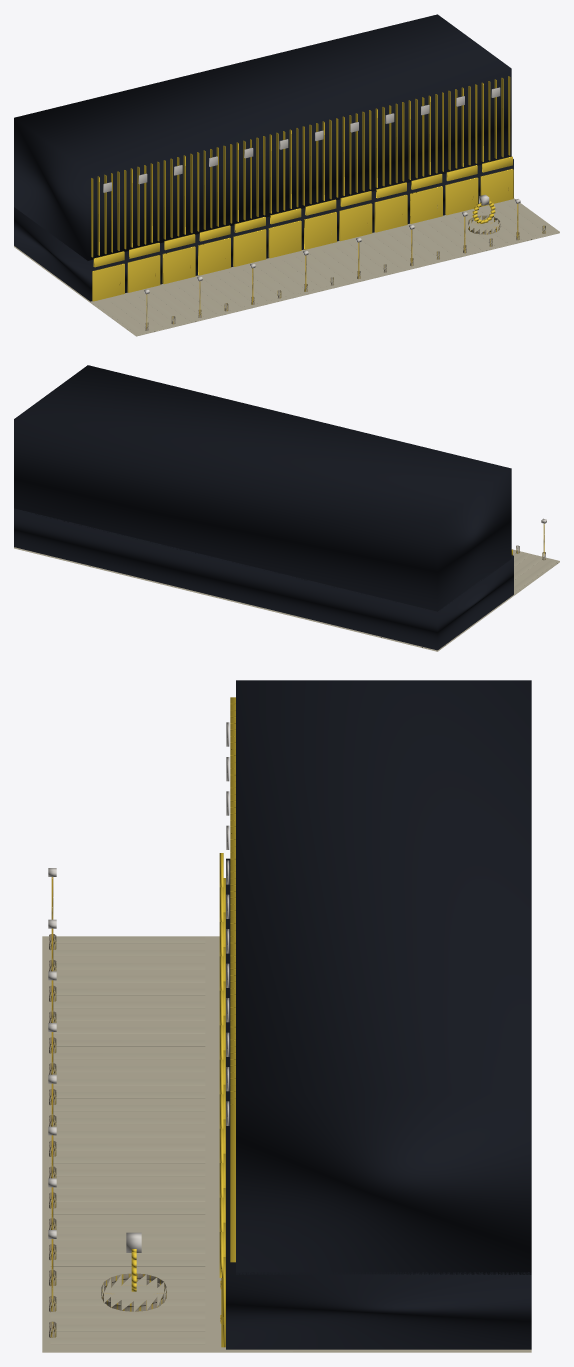
The picture shows the model from 3 angles, top to bottom: view 1: azimuth 30°, elevation 25°; view 2: azimuth 150°, elevation 25°; view 3: azimuth 270°, elevation 25°; orthographic projection. The views are drawn at different scales.
Parts seen in each view (by area): view 1: jewelry_building_facades, jewelry_street_floor, jewelry_led_signage_and_neon, jewelry_ring_monument_and_lights; view 2: jewelry_building_facades, jewelry_street_floor; view 3: jewelry_building_facades, jewelry_street_floor, jewelry_led_signage_and_neon, jewelry_ring_monument_and_lights.
Part boxes in pixels (x1=…): jewelry_building_facades: x1=14, y1=14, x2=513, y2=301; jewelry_street_floor: x1=14, y1=198, x2=559, y2=336; jewelry_led_signage_and_neon: x1=93, y1=87, x2=512, y2=267; jewelry_ring_monument_and_lights: x1=468, y1=194, x2=500, y2=234; jewelry_building_facades: x1=14, y1=365, x2=513, y2=650; jewelry_street_floor: x1=14, y1=518, x2=559, y2=651; jewelry_building_facades: x1=220, y1=680, x2=531, y2=1349; jewelry_street_floor: x1=42, y1=868, x2=531, y2=1352; jewelry_led_signage_and_neon: x1=219, y1=722, x2=229, y2=1277; jewelry_ring_monument_and_lights: x1=101, y1=1232, x2=166, y2=1311.
Bounding box in the file's own units: 48 × 14 × 24.
5 materials, 5 textured.
